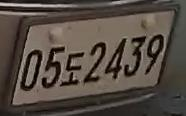0: (21, 48, 43, 92)
2: (83, 41, 107, 83)
3: (124, 35, 148, 77)
4: (105, 35, 126, 81)
5: (42, 44, 65, 89)
9: (146, 33, 165, 76)
도: (64, 50, 84, 85)
